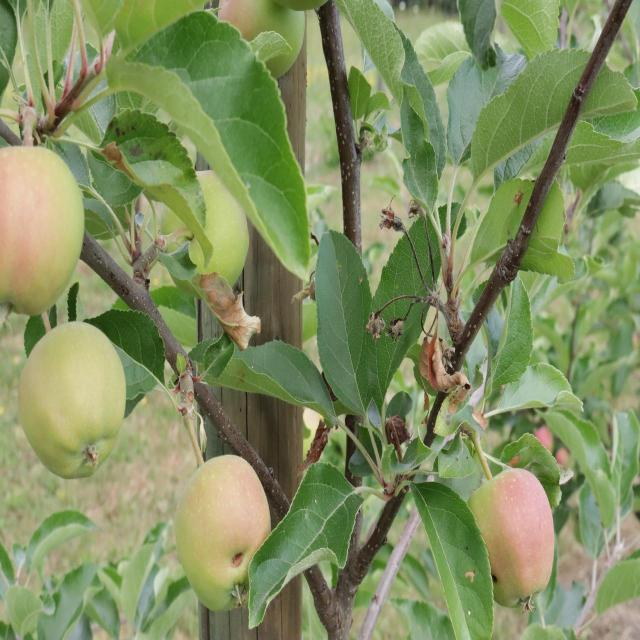-FireBlight-: (421, 290, 473, 399), (190, 274, 262, 344)
